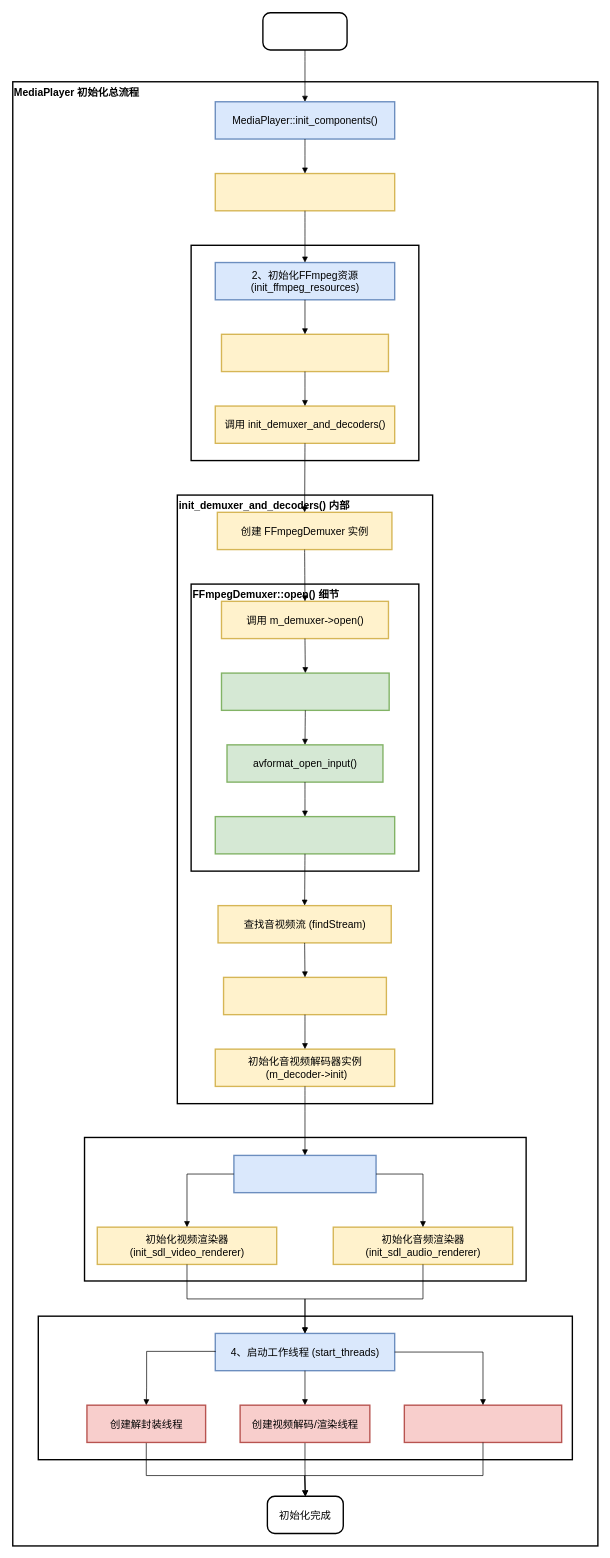
This 610x1558 diagram has some shape labels left out. Here are the shapes that lost their labels. From the top down, the centre of each, then its label:
point 304,31: 开始
point 304,191: 1、初始化基础组件 (队列, 时钟)
point 304,352: 分配 AVPacket / AVFrame
point 305,691: avformat_alloc_context()
point 304,835: avformat_find_stream_info()
point 305,995: 获取流对应的解码器参数
point 304,1173: 3、初始化SDL渲染器
point 482,1423: 创建音频解码/渲染线程
